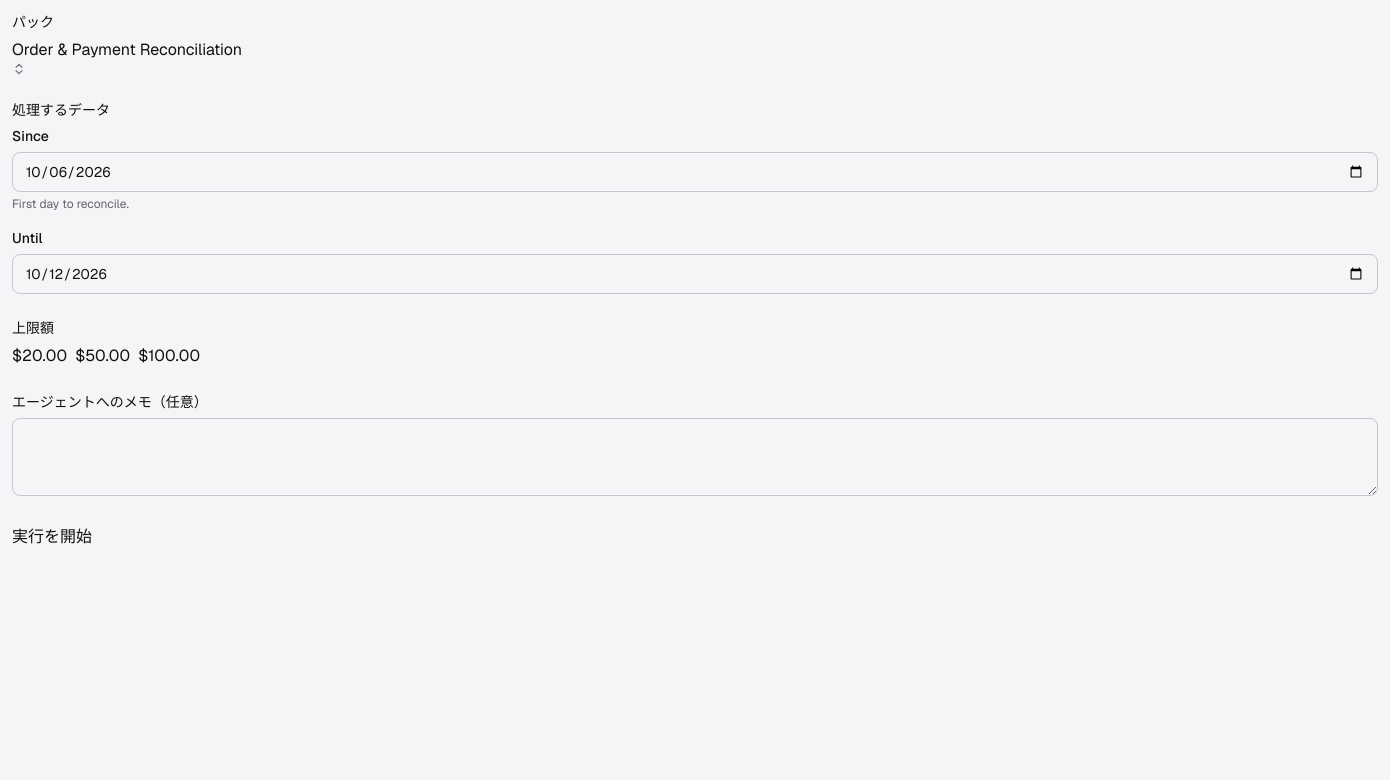
Test: StartRunFields from an input schema › names a missing field in Japanese
Clear the date field labelled "Since": coordinates (695, 172) [12,152,1378,192]
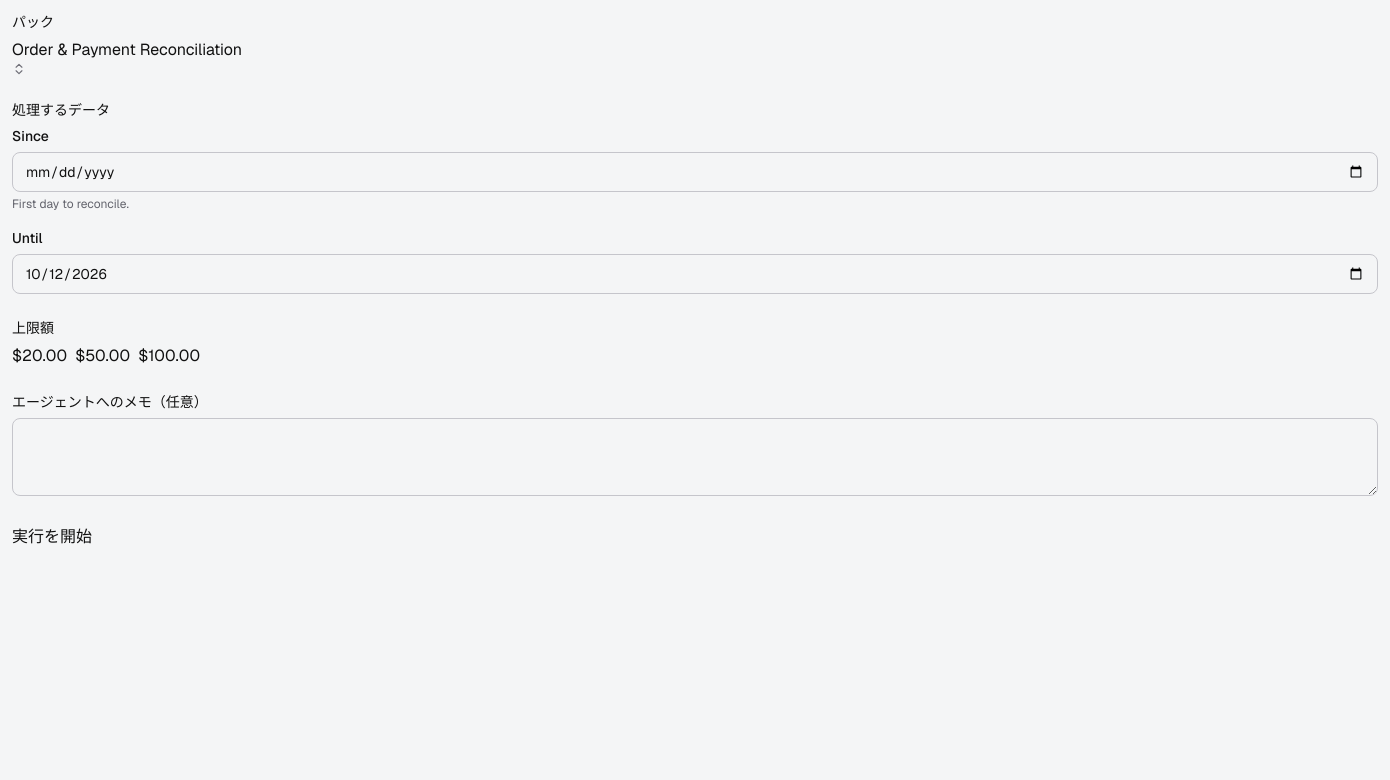
Click the button "実行を開始": coordinates (52, 537) [12,525,92,549]
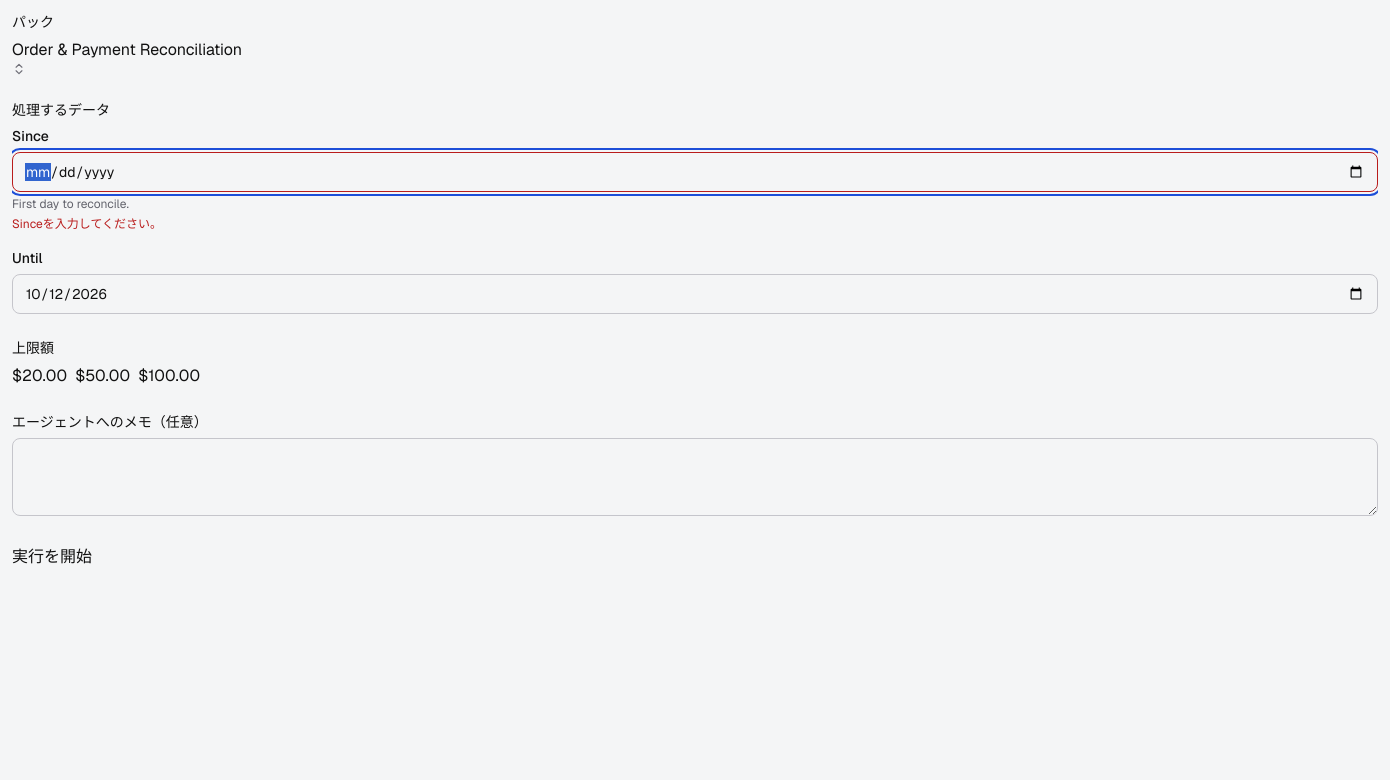
Now the text "Sinceを入力してください。" is shown, box [12,216,162,232]
